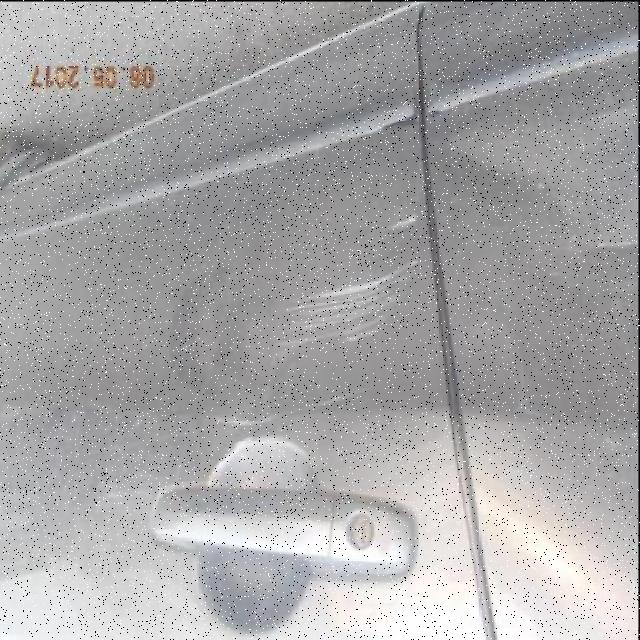damage: (470, 101, 640, 431), (272, 252, 421, 350), (203, 372, 380, 431), (513, 344, 547, 426), (387, 199, 422, 235)
